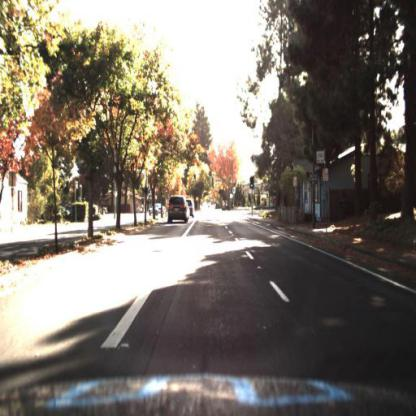car: (168, 195, 191, 224), (150, 205, 166, 221), (149, 204, 167, 218), (190, 197, 196, 222)
trafficLight: (248, 180, 255, 193)
trafficLight-Green: (250, 176, 257, 192), (210, 171, 215, 187), (192, 172, 197, 187)
